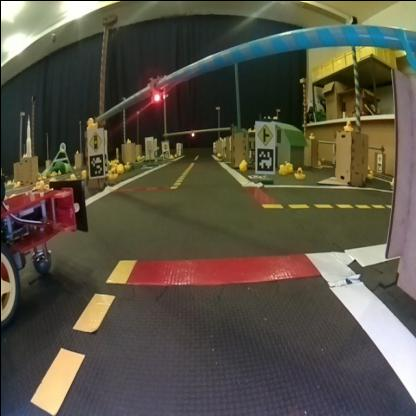Duckie: (293, 166, 303, 178), (85, 116, 94, 125), (277, 164, 285, 174), (343, 120, 351, 128), (238, 160, 244, 170)
Duckiebot: (1, 177, 87, 319)
Intersection sign: (254, 122, 272, 143)
QR code: (254, 146, 272, 172), (87, 152, 103, 174)
Signal sign: (87, 129, 102, 151)
Traffic light: (148, 76, 163, 100)
